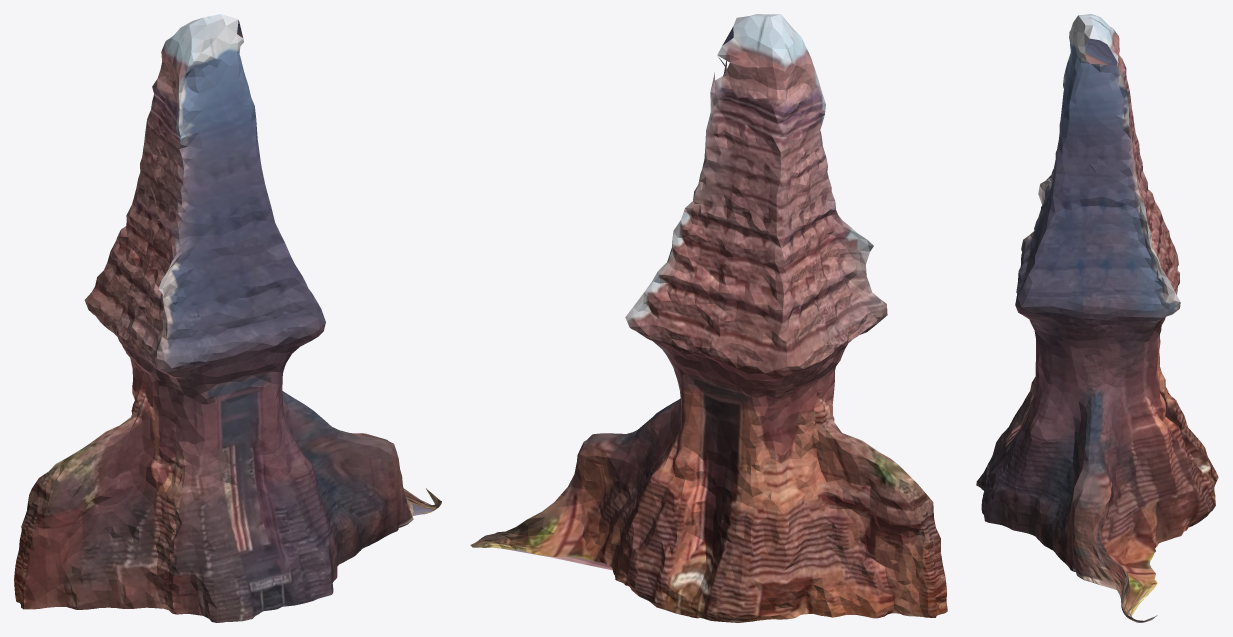
Rendered from gapura_bajangratu_v1.glb.
3 views of the same model, side by side, from view 1: azimuth 30°, elevation 25°; view 2: azimuth 150°, elevation 25°; view 3: azimuth 270°, elevation 25° (orthographic). The views are drawn at different scales.
Visible parts, largest first — view 1: Mesh_0; view 2: Mesh_0; view 3: Mesh_0.
Part boxes in pixels (x1=…): Mesh_0: x1=14, y1=14, x2=441, y2=622; Mesh_0: x1=470, y1=14, x2=947, y2=622; Mesh_0: x1=976, y1=14, x2=1218, y2=622.
Bounding box in the file's own units: 0.3318 × 0.41 × 0.1805.
Materials: 1 (1 with a texture image).
